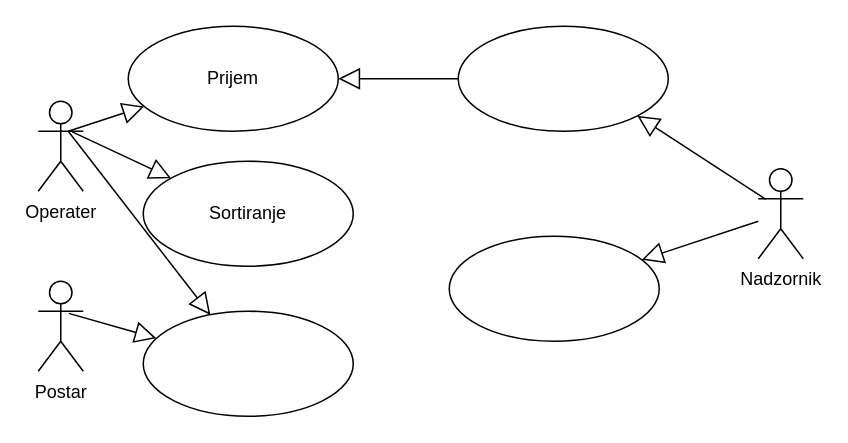
The diagram is 848 pixels wide and 443 high, and some of its shapes have lost their labels. Each missing label, with the box of its shape:
Izdavanje: (142, 310, 353, 416)
Nadzor i analiza rada: (448, 235, 659, 341)
Obrada posiljke sa greskom: (457, 25, 668, 131)
